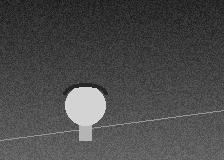no_helmet: (65, 83, 105, 130)
